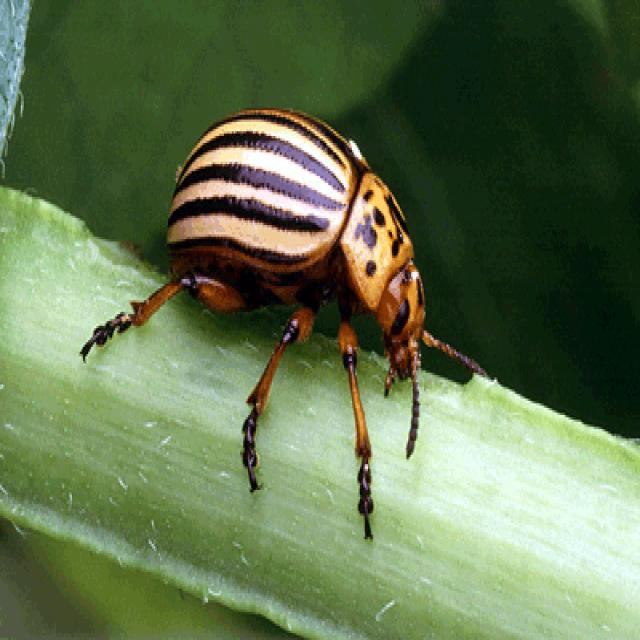ShuCaiHuaBanChong-Grown-: (138, 89, 456, 441)
